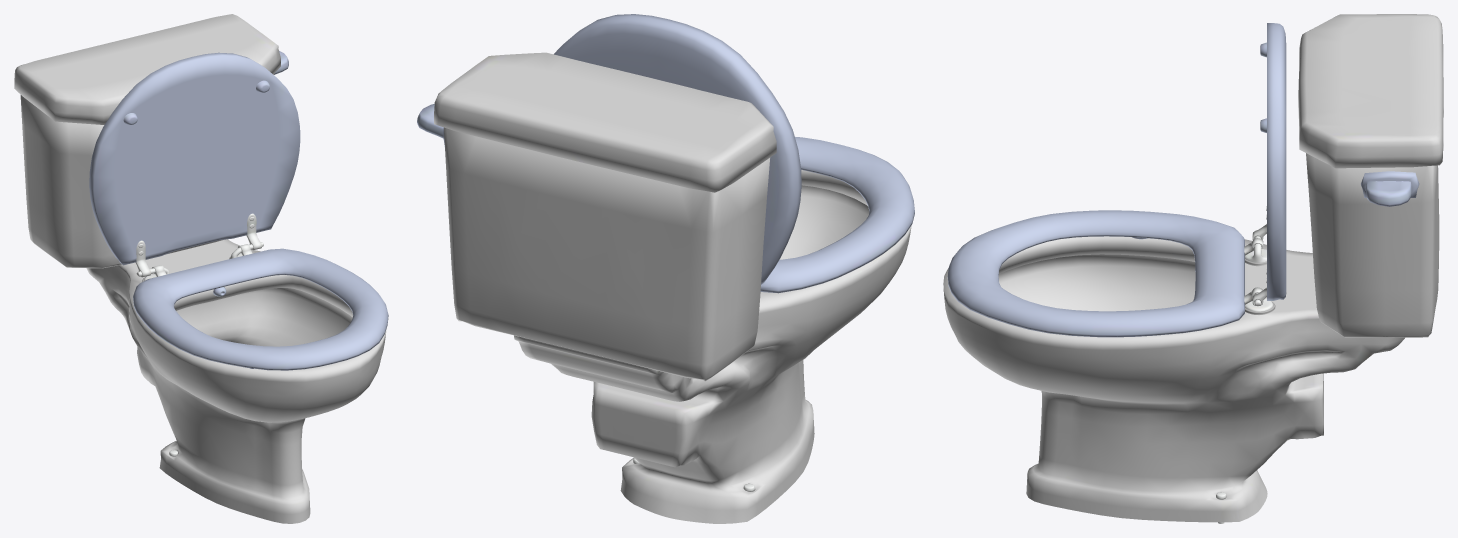
Rendered from toilet.glb.
3 renders of one model, left to right at view 1: azimuth 30°, elevation 25°; view 2: azimuth 150°, elevation 25°; view 3: azimuth 270°, elevation 25°, orthographic. The views are drawn at different scales.
Parts seen in each view (by area): view 1: Object_2.002; view 2: Object_2.002; view 3: Object_2.002.
Part boxes in pixels (bbox=[...]): Object_2.002: bbox=[14, 14, 388, 523]; Object_2.002: bbox=[417, 14, 914, 523]; Object_2.002: bbox=[943, 14, 1443, 523].
Bounding box in the file's own units: 0.0549 × 0.0808 × 0.0798.
1 material, 1 textured.
